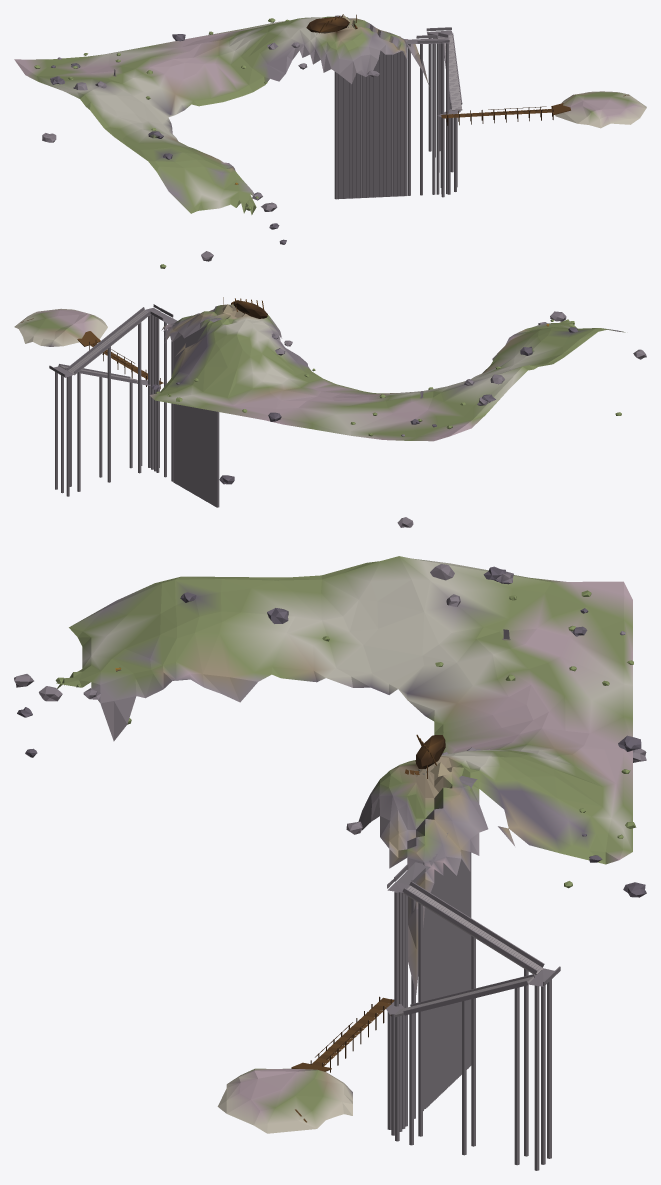
The model's file is coast_isl_beached_wreck_lod1.glb.
The picture shows the model from 3 angles, top to bottom: view 1: azimuth 30°, elevation 25°; view 2: azimuth 150°, elevation 25°; view 3: azimuth 270°, elevation 25°; orthographic projection. The views are drawn at different scales.
Visible parts, largest first — view 1: geometry_0; view 2: geometry_0; view 3: geometry_0.
Part boxes in pixels (bbox=[...]): geometry_0: bbox=[14, 14, 646, 268]; geometry_0: bbox=[14, 297, 646, 527]; geometry_0: bbox=[14, 556, 646, 1170].
Size of the model in its own units: 216 by 75.66 by 140.
